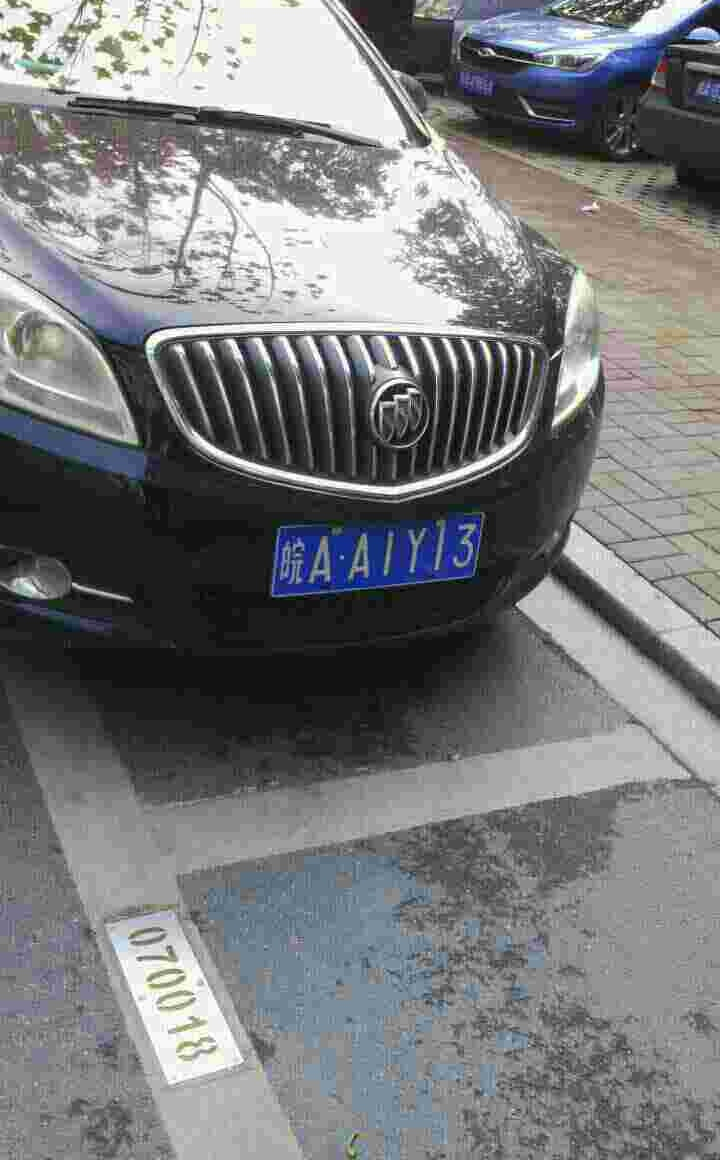license_plate: (271, 510, 494, 604)
